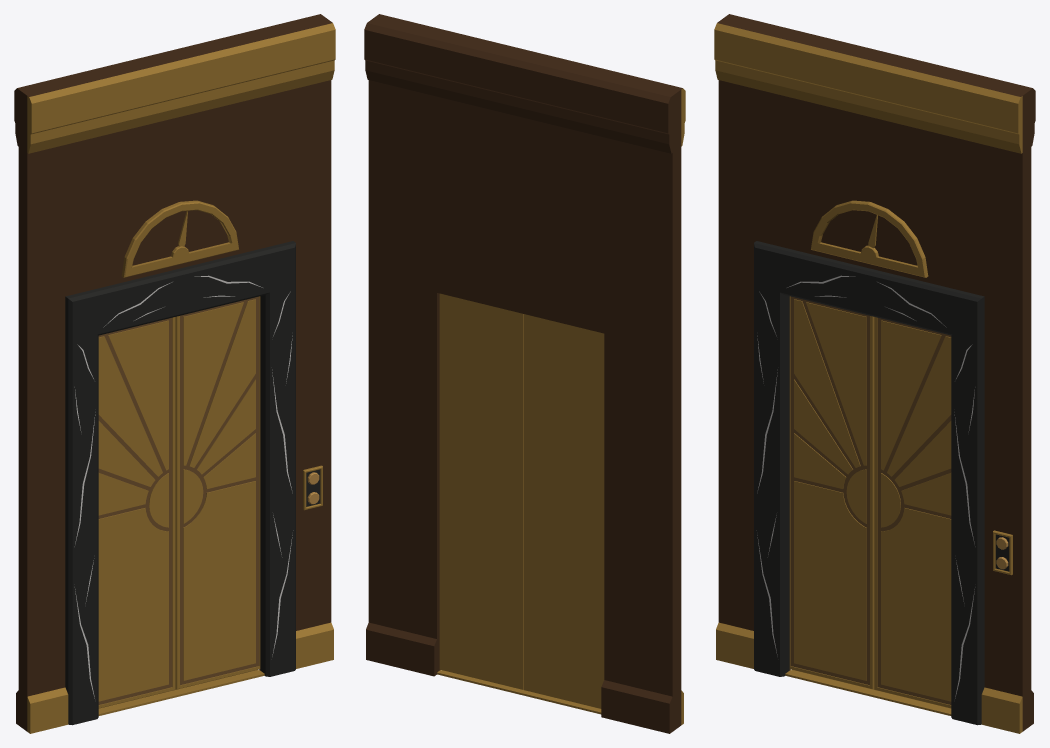
The model's file is brass-lift-door-bay-df3182.glb.
3 views of the same model, side by side, from view 1: azimuth 30°, elevation 25°; view 2: azimuth 150°, elevation 25°; view 3: azimuth 330°, elevation 25° (orthographic).
Parts seen in each view (by area): view 1: landing-wall, leaf-right, leaf-left; view 2: landing-wall, leaf-right, leaf-left; view 3: landing-wall, leaf-left, leaf-right.
Boxes of the visible parts, left/top/right/bottom form: landing-wall: left=14, top=14, right=335, bottom=733; leaf-right: left=175, top=296, right=260, bottom=689; leaf-left: left=98, top=317, right=175, bottom=708; landing-wall: left=364, top=14, right=685, bottom=733; leaf-right: left=439, top=293, right=523, bottom=689; leaf-left: left=524, top=314, right=604, bottom=708; landing-wall: left=714, top=14, right=1035, bottom=733; leaf-left: left=789, top=296, right=874, bottom=689; leaf-right: left=874, top=317, right=951, bottom=708.
Size of the model in its own units: 2 by 4 by 0.2.
